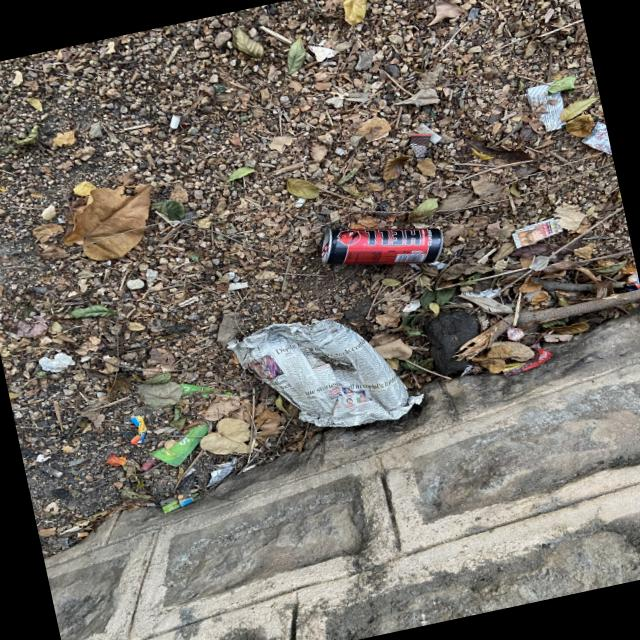giay: (228, 319, 424, 426), (513, 217, 564, 248)
giay_goi: (527, 82, 566, 130), (130, 415, 147, 444)
kim_loai: (321, 227, 444, 263)
